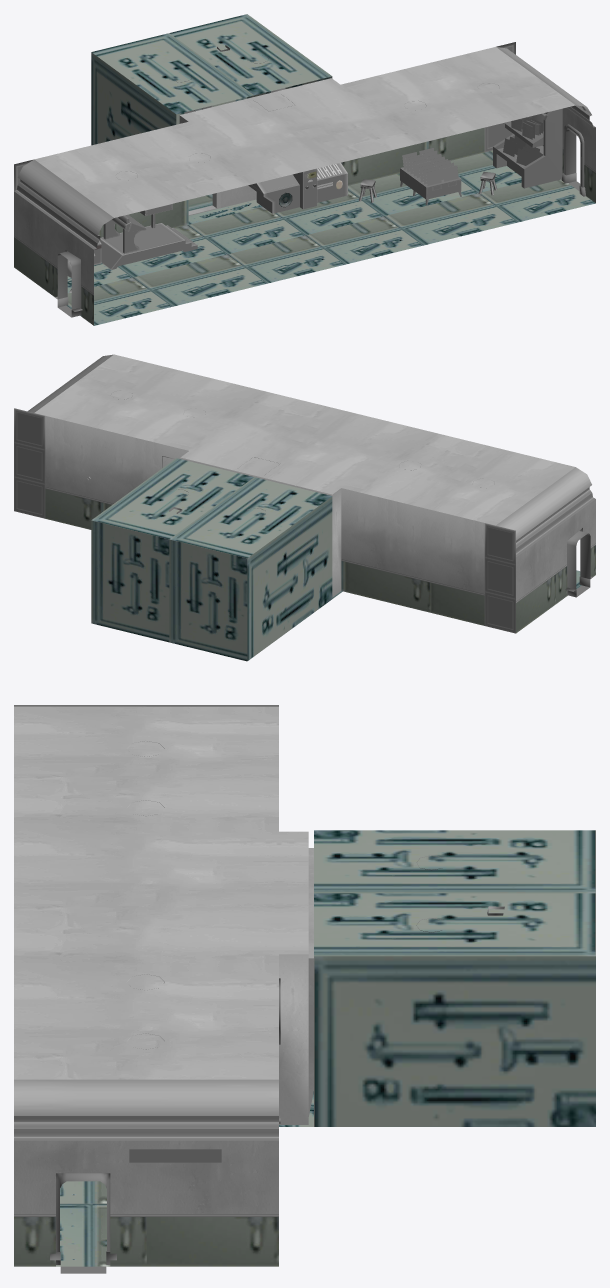
The model's file is MSH_Radio_station_room_L2_R3_optimized.fbx.
3 views of the same model, one above another, from view 1: azimuth 30°, elevation 25°; view 2: azimuth 150°, elevation 25°; view 3: azimuth 270°, elevation 25° (orthographic). The views are drawn at different scales.
Parts seen in each view (by area): view 1: lightmap0, lightmap1; view 2: lightmap0; view 3: lightmap0, lightmap1.
Boxes of the visible parts, left/top/right/bottom form: lightmap0: left=14, top=14, right=595, bottom=325; lightmap1: left=67, top=45, right=562, bottom=292; lightmap0: left=14, top=354, right=595, bottom=661; lightmap0: left=14, top=705, right=595, bottom=1273; lightmap1: left=127, top=741, right=504, bottom=1162.
Size of the model in its own units: 30.91 by 6.24 by 18.13.
